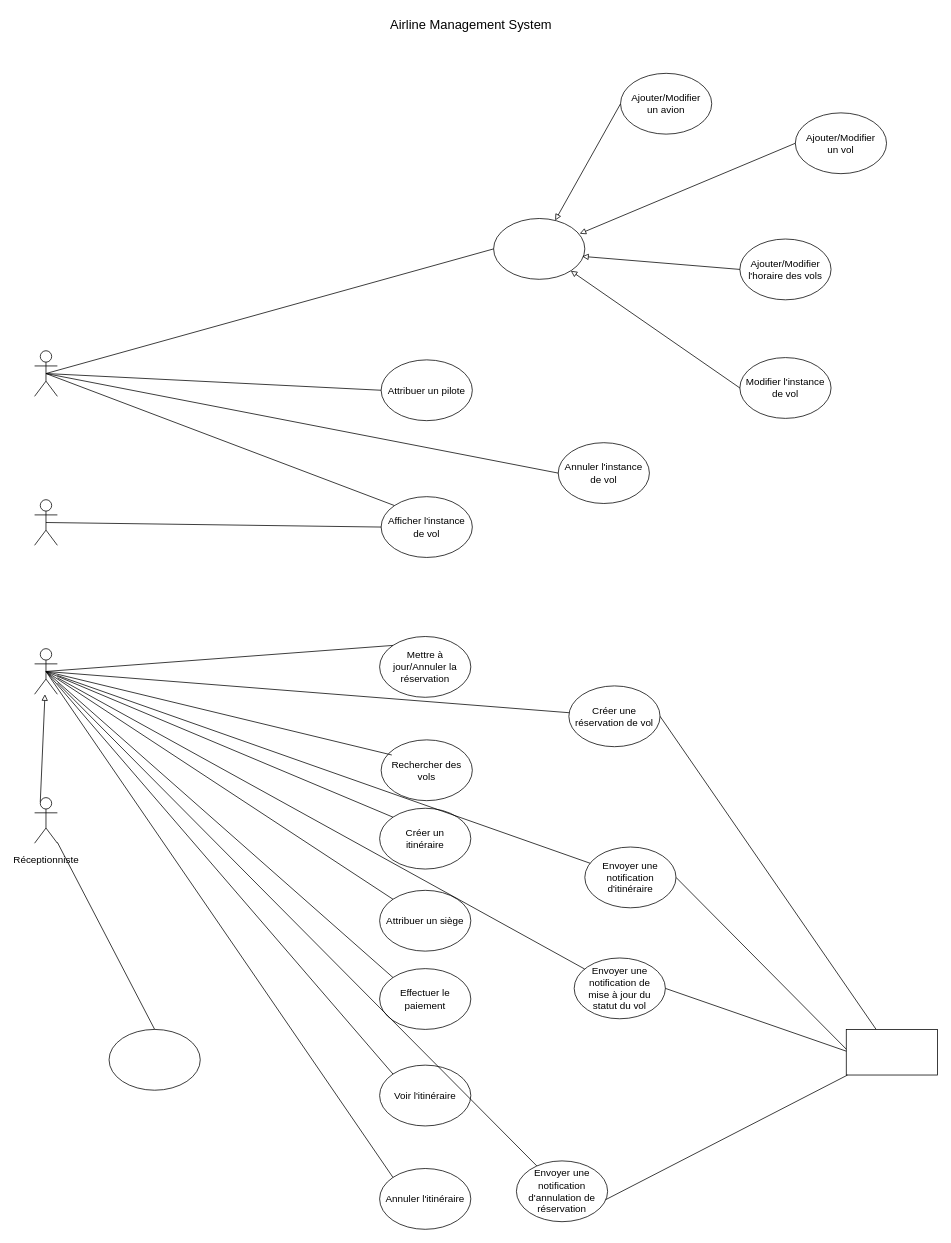
The diagram is 951 pixels wide and 1243 high, and some of its shapes have lost their labels. The shapes that lost their labels are listed below. From the top down, each one's box as (x1, y1, x2, y2) in pixels, then its label:
(493, 218, 585, 279): Gérer les vols
(34, 350, 57, 396): Admin
(34, 499, 57, 545): Pilote
(34, 648, 57, 694): Client
(108, 1029, 200, 1090): Ajouter un passager
(846, 1029, 937, 1075): Systéme
